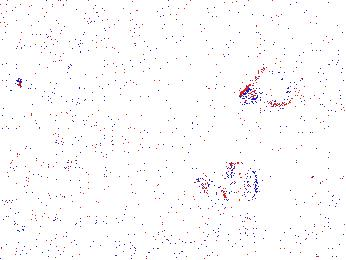flame jellyfish: (194, 161, 259, 208), (239, 61, 302, 106), (1, 173, 38, 237)
